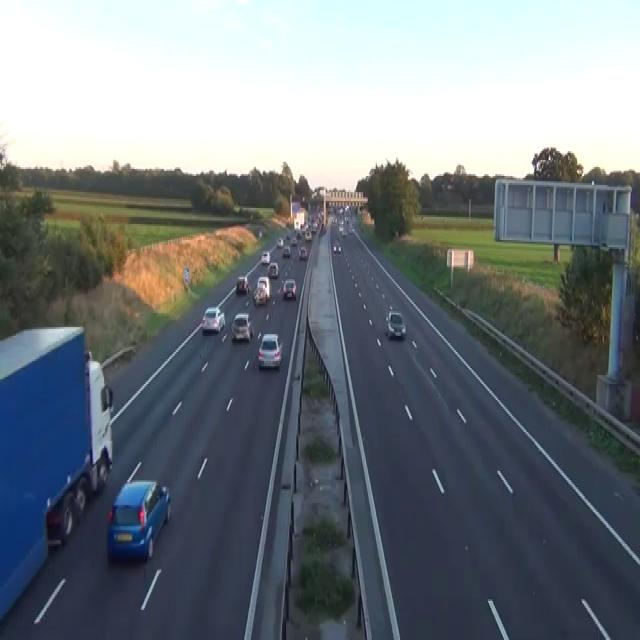Car: (106, 478, 171, 564), (257, 332, 282, 368), (231, 311, 253, 341), (201, 306, 225, 332), (385, 311, 406, 338), (282, 277, 296, 299), (252, 284, 266, 306), (257, 276, 270, 298), (235, 276, 249, 294), (267, 262, 278, 278), (260, 251, 270, 265), (298, 246, 307, 260), (332, 240, 341, 252), (305, 229, 312, 242), (282, 245, 290, 256), (276, 237, 283, 247), (320, 224, 326, 235), (290, 237, 297, 246), (301, 222, 308, 231), (311, 222, 316, 233), (348, 224, 354, 233), (338, 222, 343, 231), (296, 230, 301, 238), (341, 228, 346, 236), (285, 233, 290, 240), (258, 228, 262, 236)
Truck: (0, 324, 113, 622), (293, 208, 305, 229)
